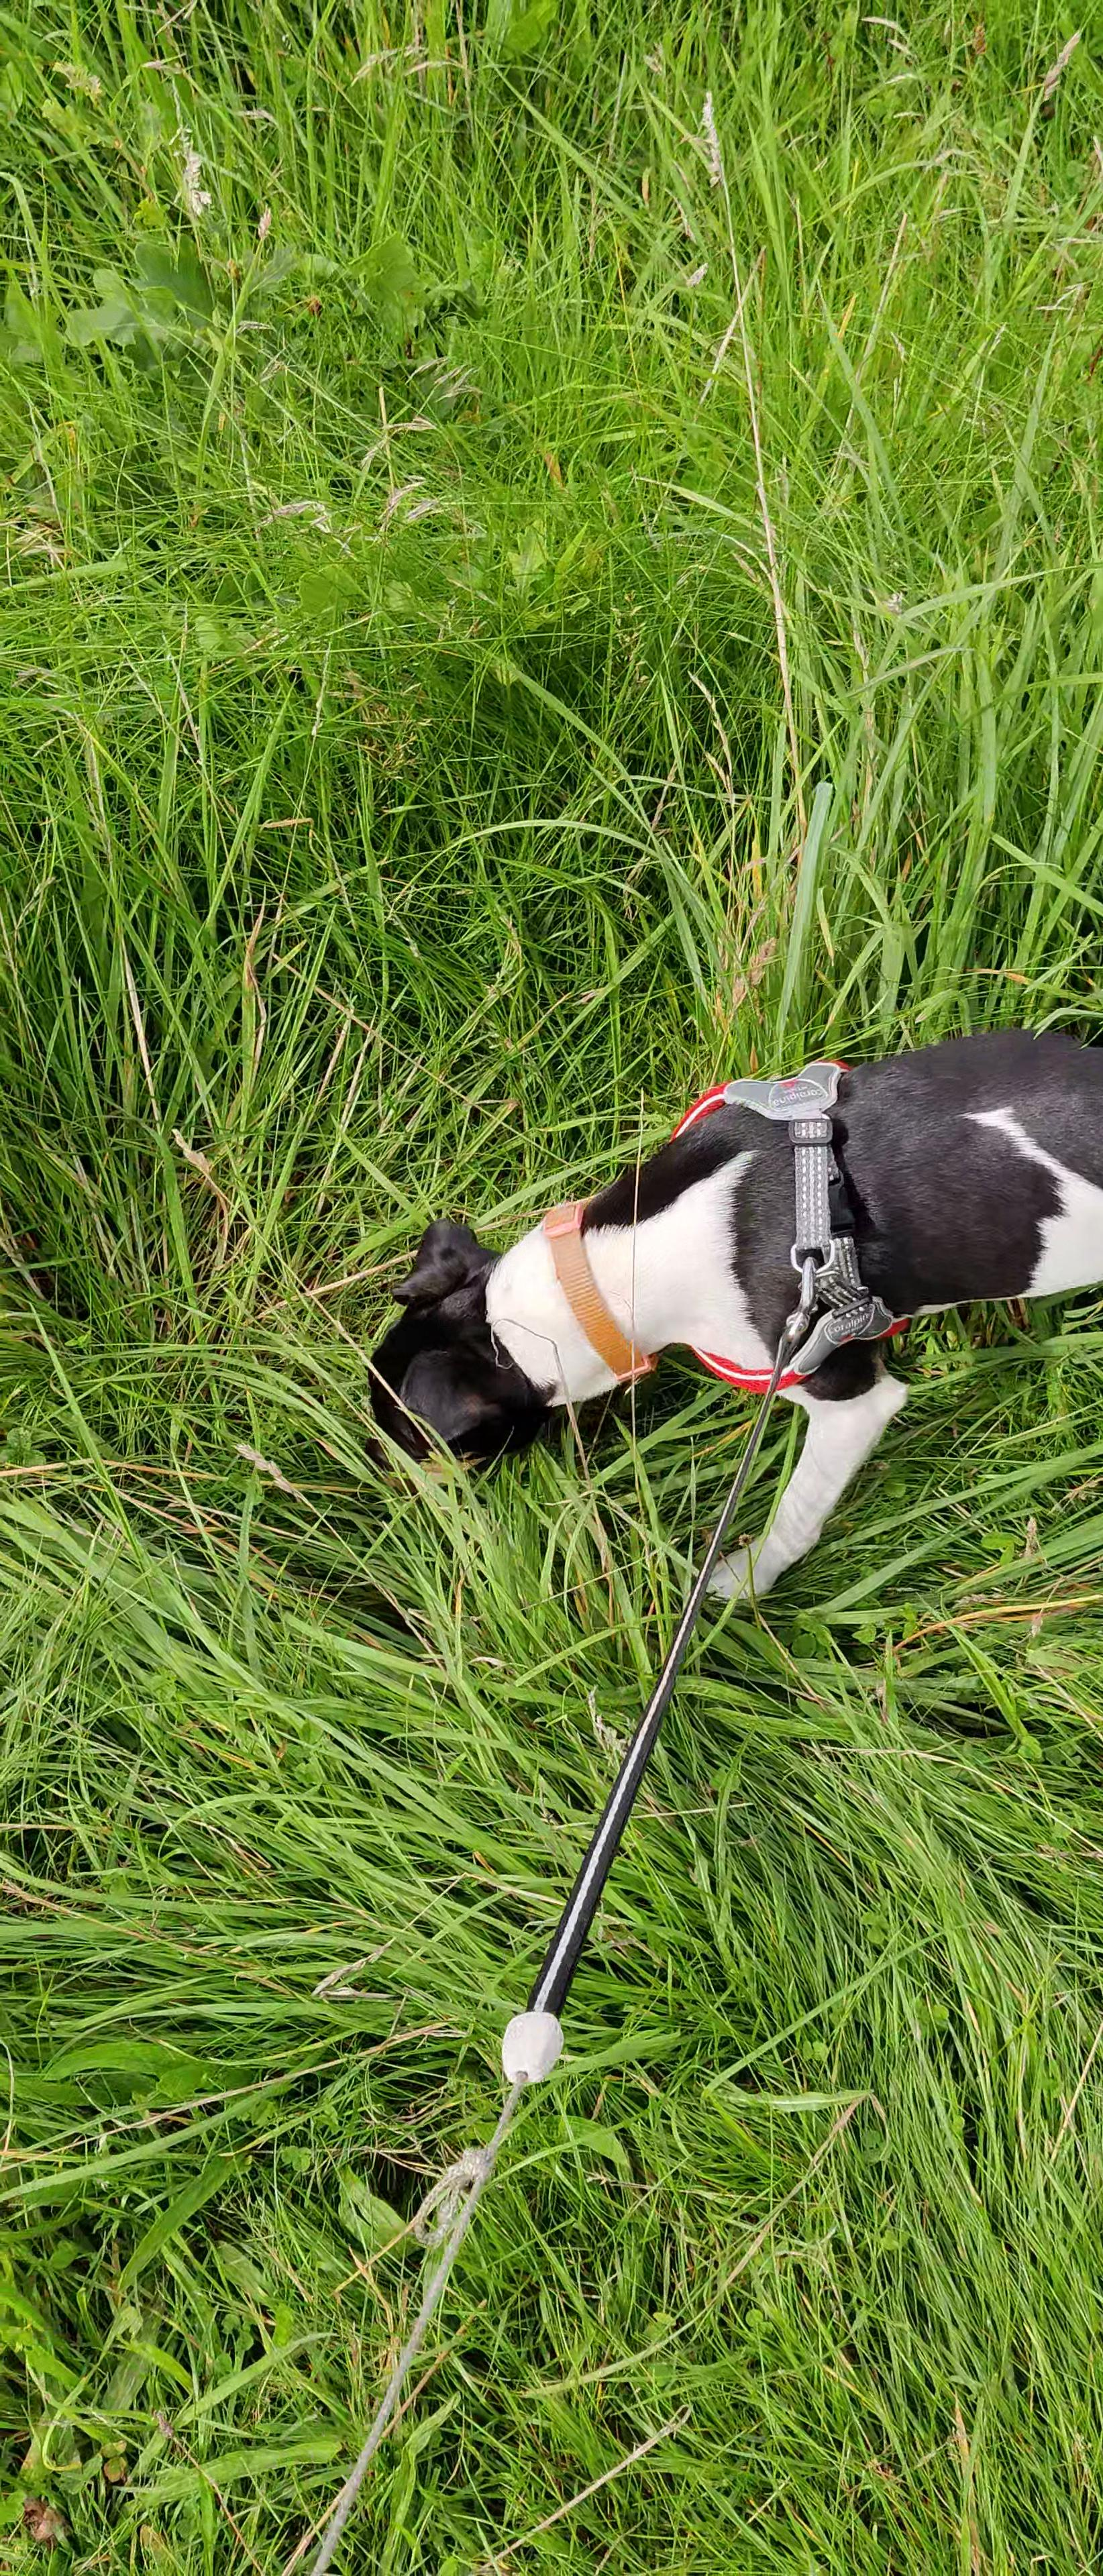Dog: (334, 969, 1103, 1617)
